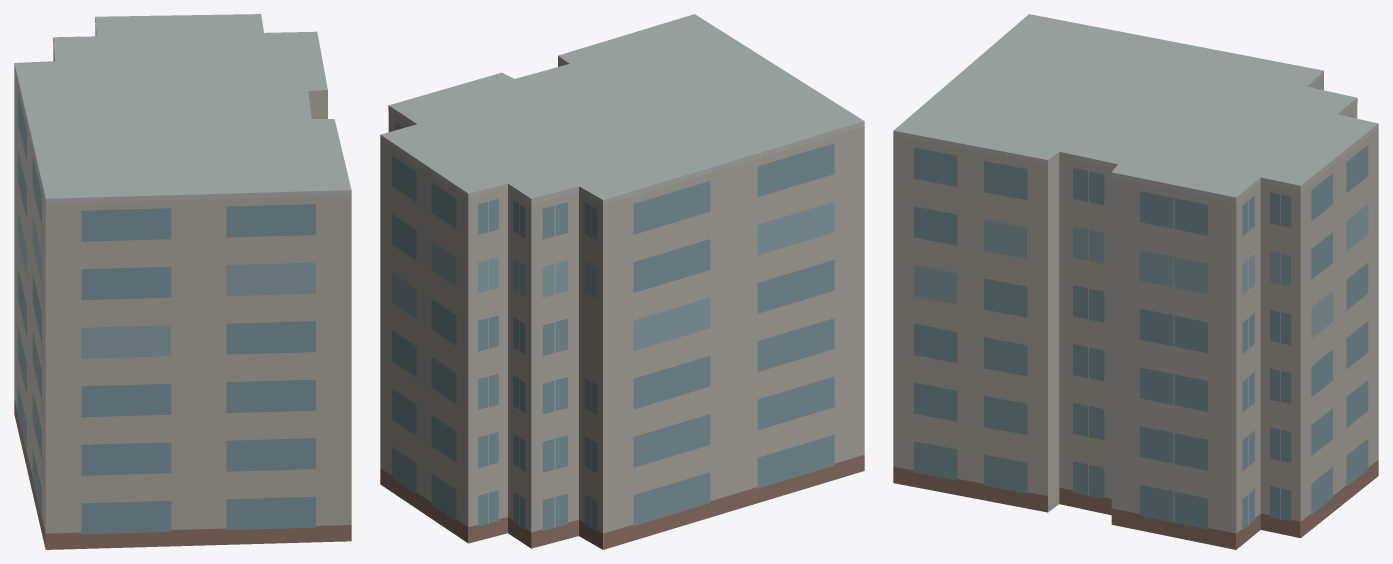
File: survey-upis-32928749.glb
3 renders of one model, left to right at view 1: azimuth 30°, elevation 25°; view 2: azimuth 150°, elevation 25°; view 3: azimuth 270°, elevation 25°, orthographic.
Visible parts, largest first — view 1: survey-upis-32928749.tmp; view 2: survey-upis-32928749.tmp; view 3: survey-upis-32928749.tmp.
Part boxes in pixels (x1,y1,x2,y2): survey-upis-32928749.tmp: (14, 14, 351, 549); survey-upis-32928749.tmp: (380, 14, 864, 549); survey-upis-32928749.tmp: (893, 14, 1378, 549).
Size of the model in its own units: 18.66 by 16.7 by 20.85.
